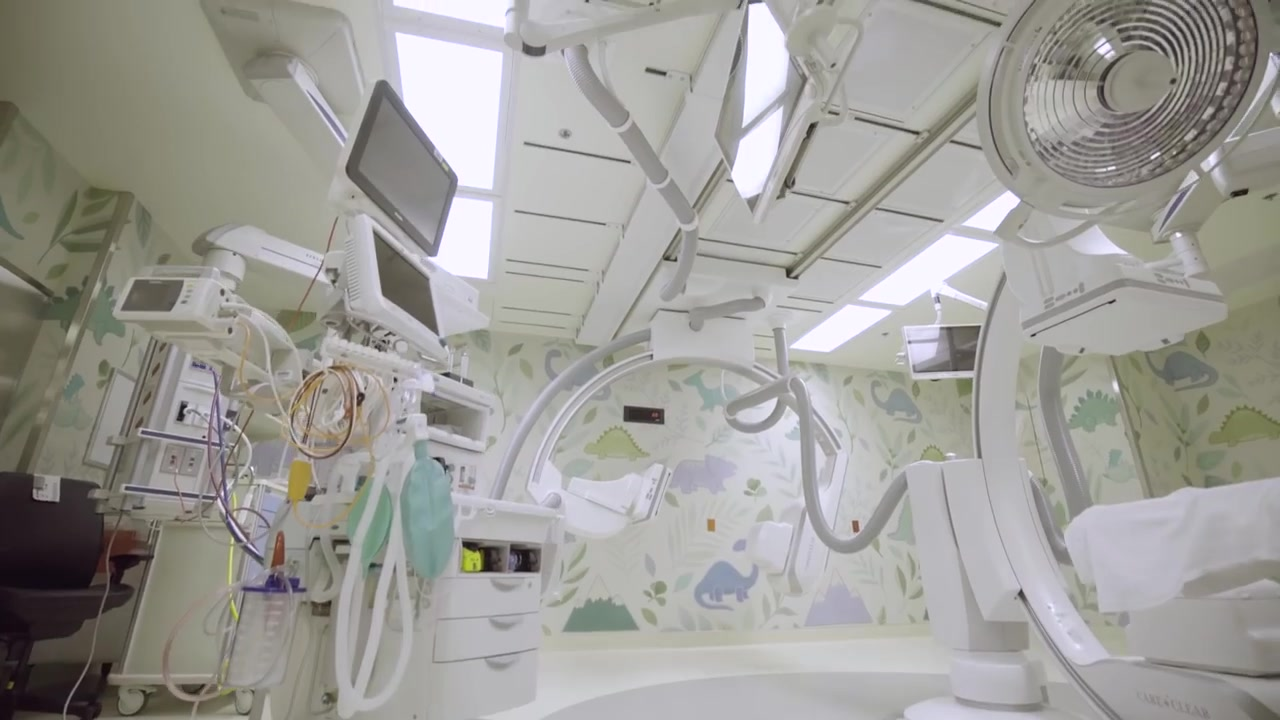bedside_monitor: (328, 79, 459, 258), (323, 211, 447, 362), (636, 465, 675, 519)
breathing_tube: (331, 414, 451, 720)
chair: (1, 472, 152, 720)
computer: (906, 326, 988, 381)
handle: (489, 613, 522, 628), (490, 576, 524, 590), (486, 655, 519, 669)
infusion_pump: (111, 273, 228, 335)
light_switch: (977, 1, 1270, 246)
medical_drawer: (451, 493, 559, 720)
operating_bed: (1062, 477, 1280, 690)
ventilator: (234, 370, 451, 720)
